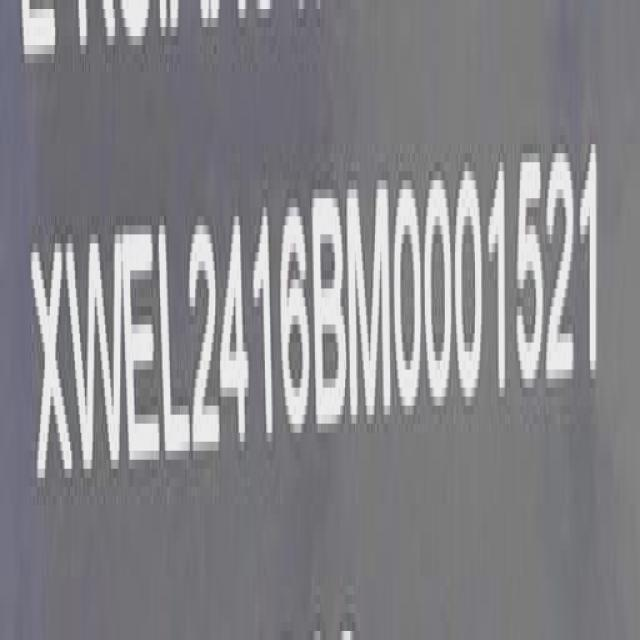0: (395, 175, 425, 422), (424, 168, 454, 414), (456, 159, 485, 408)
1: (487, 148, 509, 405), (253, 203, 275, 454), (579, 136, 600, 394)
2: (191, 218, 223, 474), (548, 148, 578, 396)
4: (220, 207, 250, 460)
5: (516, 147, 545, 398)
6: (279, 194, 311, 444)
B: (312, 187, 347, 439)
E: (125, 226, 161, 482)
L: (161, 222, 190, 474)
M: (346, 174, 392, 420)
W: (71, 227, 125, 490)
X: (35, 242, 70, 497)
